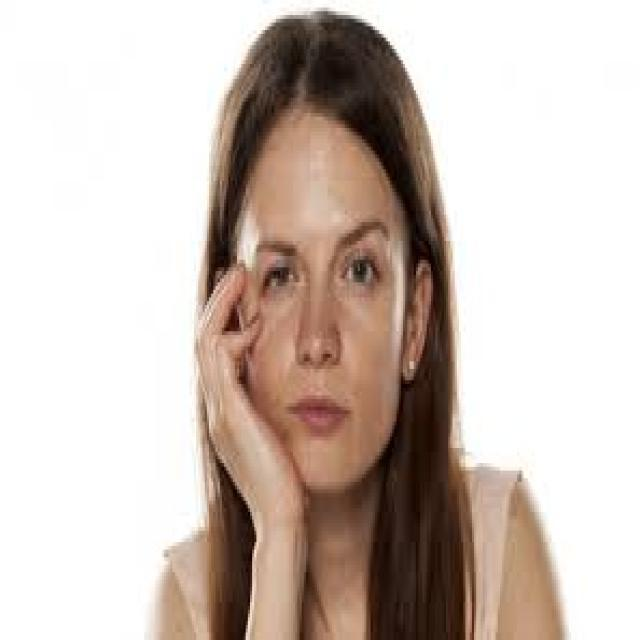oily: (352, 306, 398, 401), (274, 157, 352, 208)
